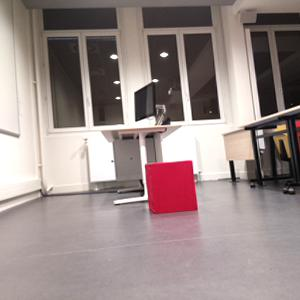medium: (141, 159, 200, 217)
